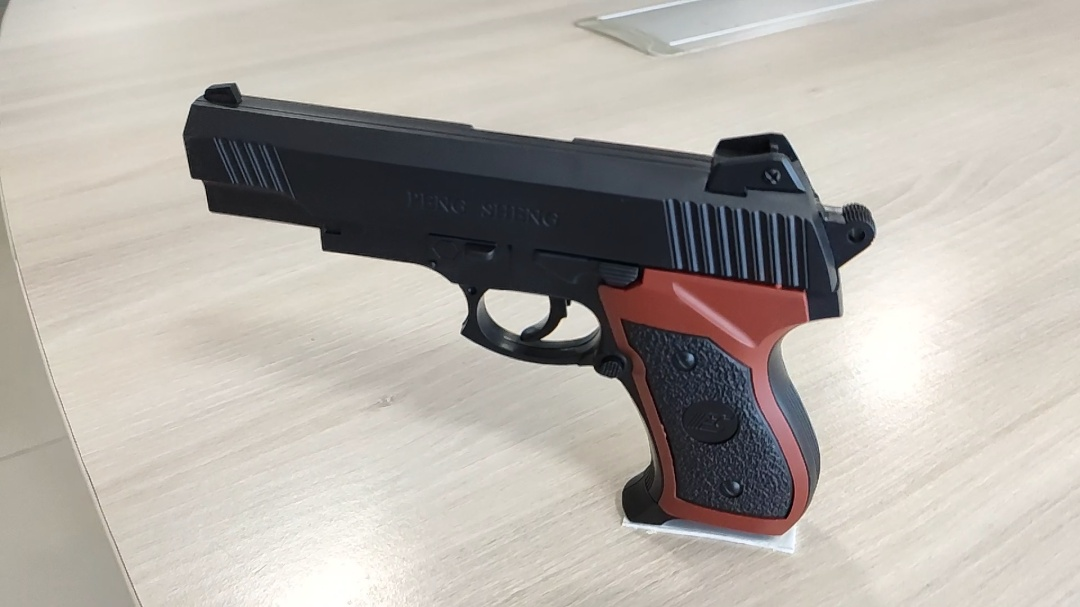gun: (180, 79, 877, 542)
